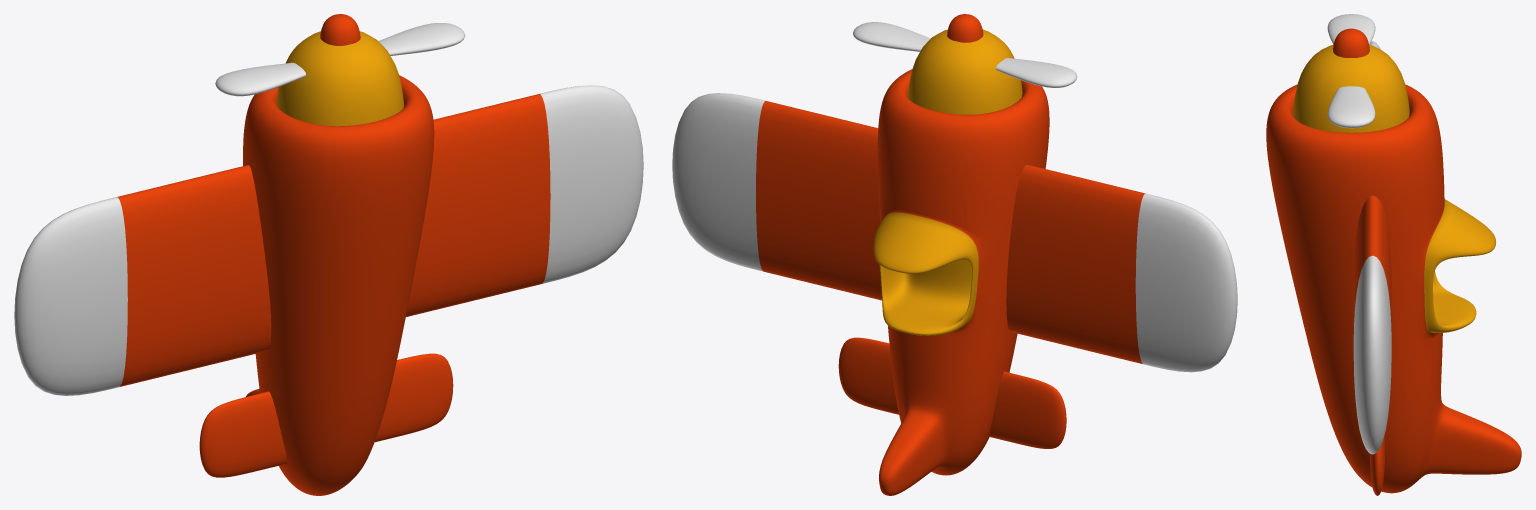
Rendered from toy-plane-original.glb.
The picture shows the model from 3 angles, left to right: view 1: azimuth 30°, elevation 25°; view 2: azimuth 150°, elevation 25°; view 3: azimuth 270°, elevation 25°; orthographic projection. The views are drawn at different scales.
Parts seen in each view (by area): view 1: 立方体.001, 立方体, 立方体.002, 立方体.003, 立方体.005, 立方体.004; view 2: 立方体.001, 立方体, 立方体.002, 立方体.003, 立方体.005, 立方体.004; view 3: 立方体, 立方体.001, 立方体.003, 立方体.005, 立方体.004, 立方体.002.
Boxes of the visible parts, x1,y1,x2,y2 form: 立方体.001: (14,85,643,395); 立方体: (243,75,434,495); 立方体.002: (199,353,453,477); 立方体.003: (276,31,404,126); 立方体.005: (215,23,465,96); 立方体.004: (320,14,360,45); 立方体.001: (672,93,1237,372); 立方体: (873,69,1049,495); 立方体.002: (838,337,1066,448); 立方体.003: (908,29,1022,114); 立方体.005: (853,22,1077,87); 立方体.004: (947,14,983,42); 立方体: (1266,84,1521,493); 立方体.001: (1353,41,1391,454); 立方体.003: (1293,44,1409,132); 立方体.005: (1327,14,1375,128); 立方体.004: (1333,28,1369,57); 立方体.002: (1370,434,1384,495).
Bounding box in the file's own units: 6.34 × 4.76 × 2.39.
